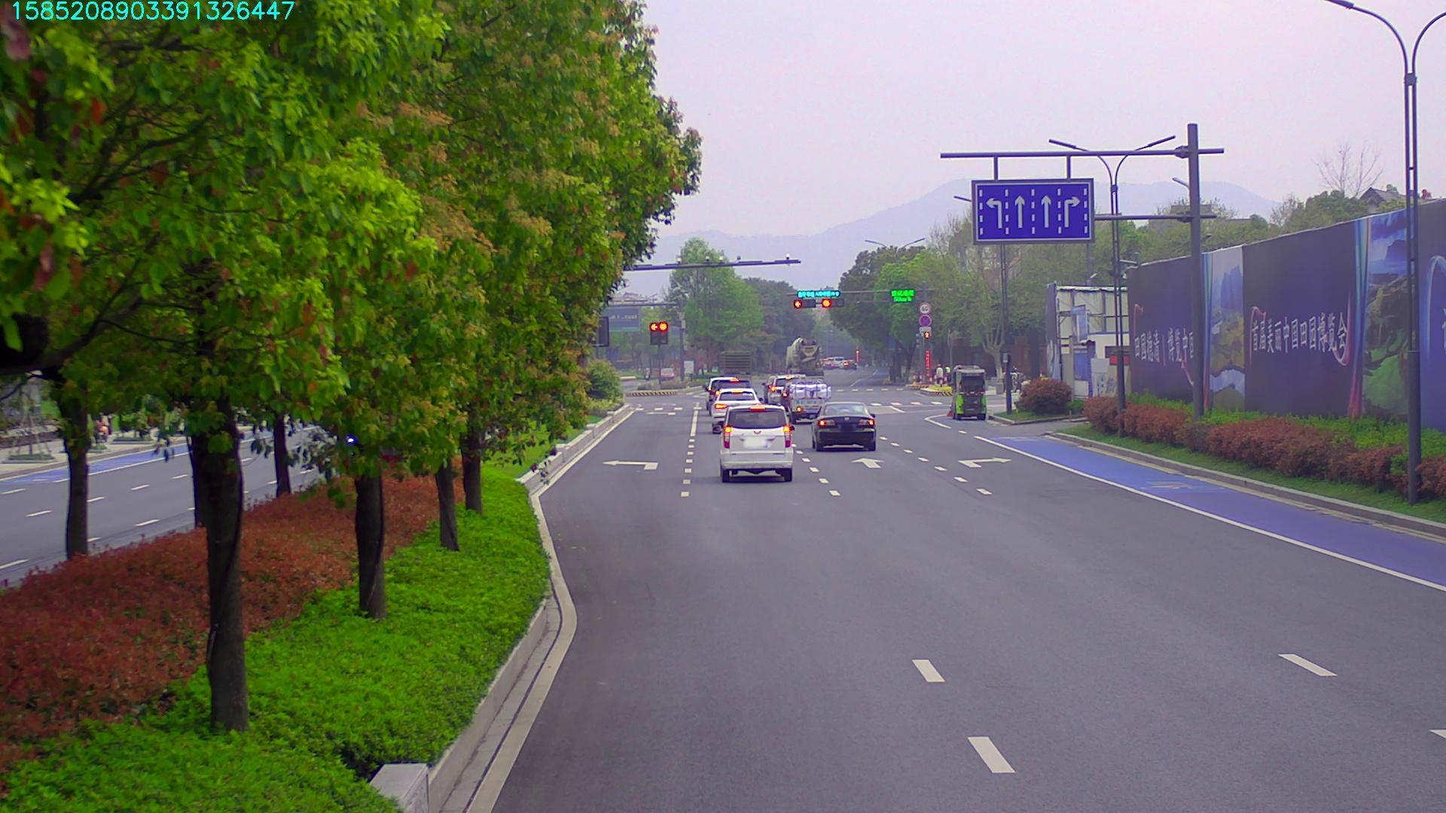red: (792, 300, 818, 311), (822, 299, 850, 306)
wait_on: (798, 288, 842, 299)
